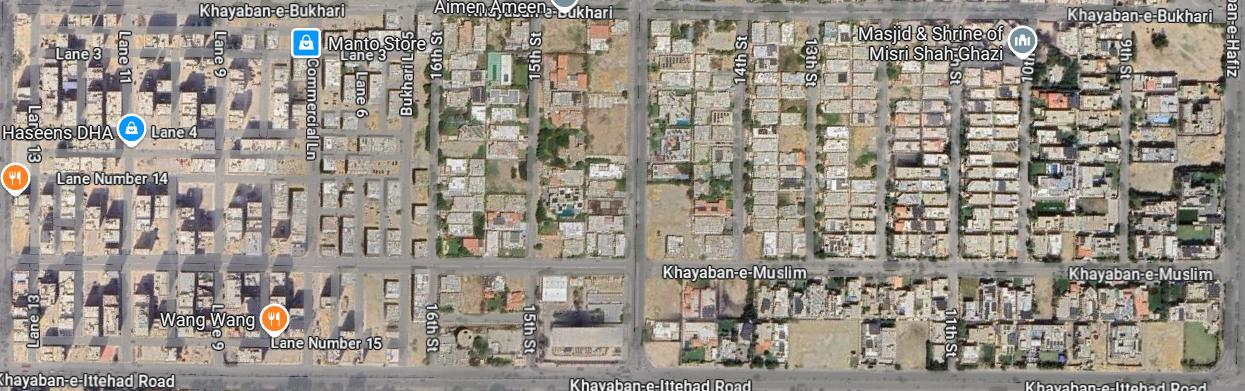Buildings: (13, 15, 434, 258), (646, 275, 1227, 367), (12, 270, 428, 366), (1131, 23, 1227, 259), (648, 17, 738, 261), (1032, 18, 1122, 260), (538, 18, 628, 258), (439, 12, 526, 257), (440, 275, 629, 366), (961, 19, 1029, 257), (747, 18, 809, 260), (888, 18, 948, 260), (819, 18, 879, 258)
